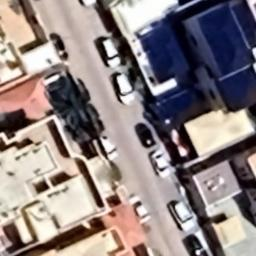SUV: (167, 196, 198, 234), (94, 34, 124, 71), (111, 70, 138, 108)
sedan: (132, 118, 158, 150), (126, 194, 152, 226), (148, 150, 174, 180), (98, 132, 122, 162), (180, 235, 212, 256), (48, 32, 70, 62), (78, 0, 102, 8)
